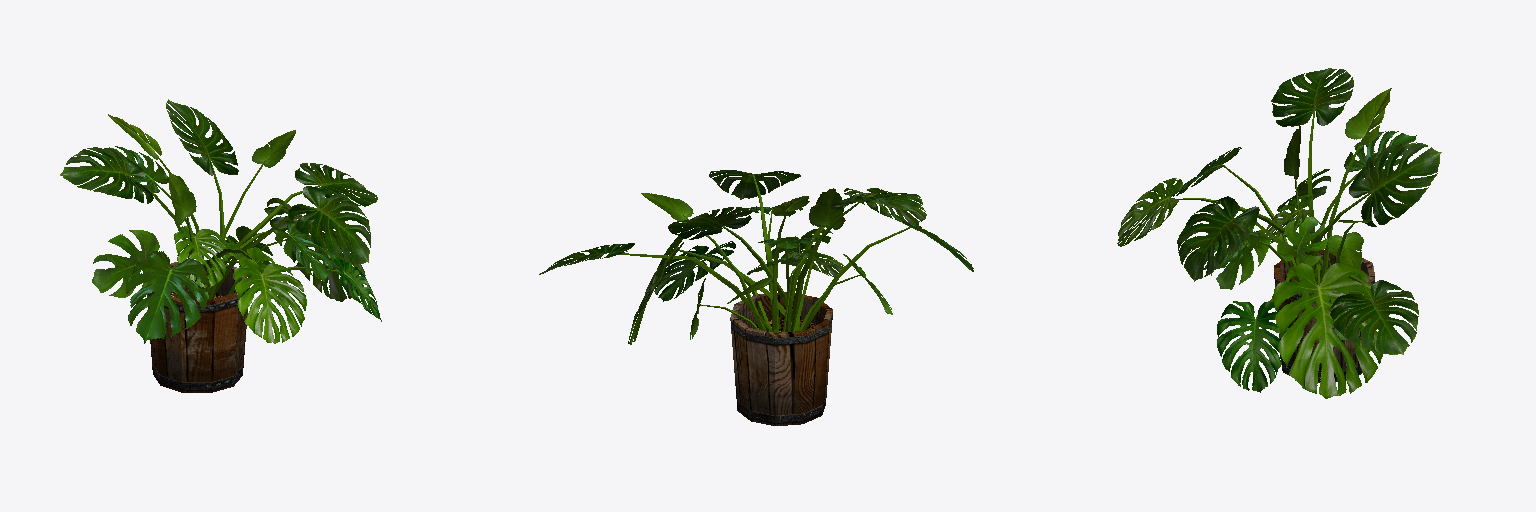
3 views of the same model, side by side, from view 1: azimuth 30°, elevation 25°; view 2: azimuth 150°, elevation 25°; view 3: azimuth 270°, elevation 25° (orthographic).
Parts seen in each view (by area): view 1: polySurface828_file130Material1_0; view 2: polySurface828_file130Material1_0; view 3: polySurface828_file130Material1_0.
Boxes of the visible parts, x1=… form: polySurface828_file130Material1_0: x1=60, y1=99, x2=381, y2=392; polySurface828_file130Material1_0: x1=539, y1=170, x2=973, y2=425; polySurface828_file130Material1_0: x1=1117, y1=68, x2=1441, y2=398.
Size of the model in its own units: 198 by 137 by 162.
Materials: 1 (1 with a texture image).